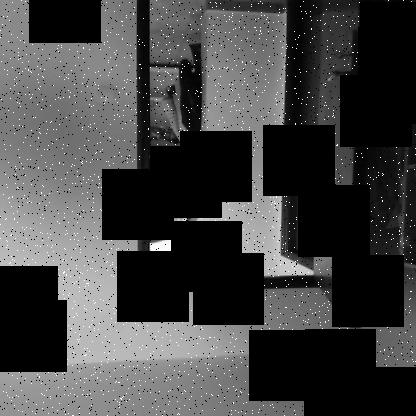Porte: (134, 1, 376, 331)
